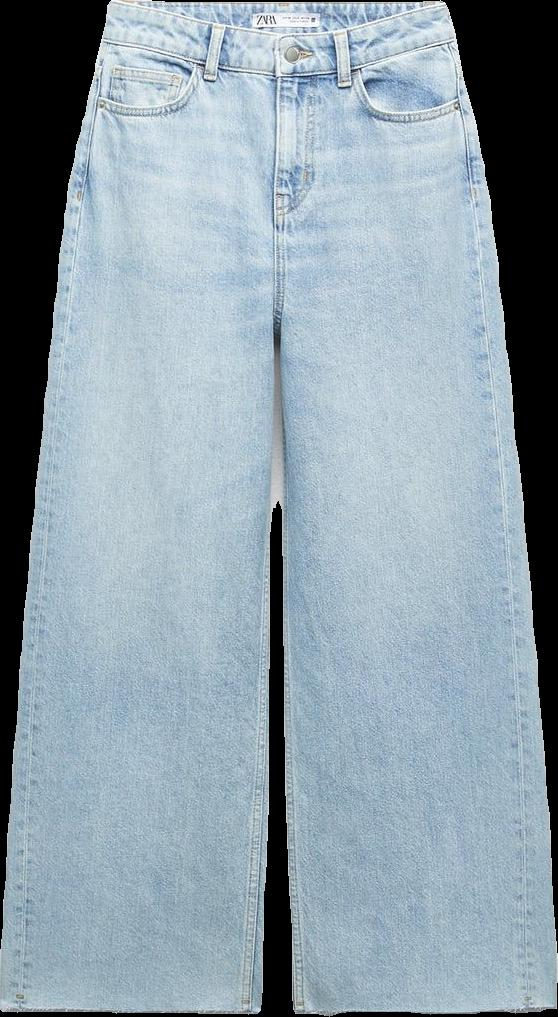Hemline: (288, 996, 557, 1016), (0, 999, 267, 1016)
Pantleg: (0, 0, 307, 1013), (275, 2, 557, 1013)
Waistline: (95, 29, 457, 79), (107, 0, 445, 38)
